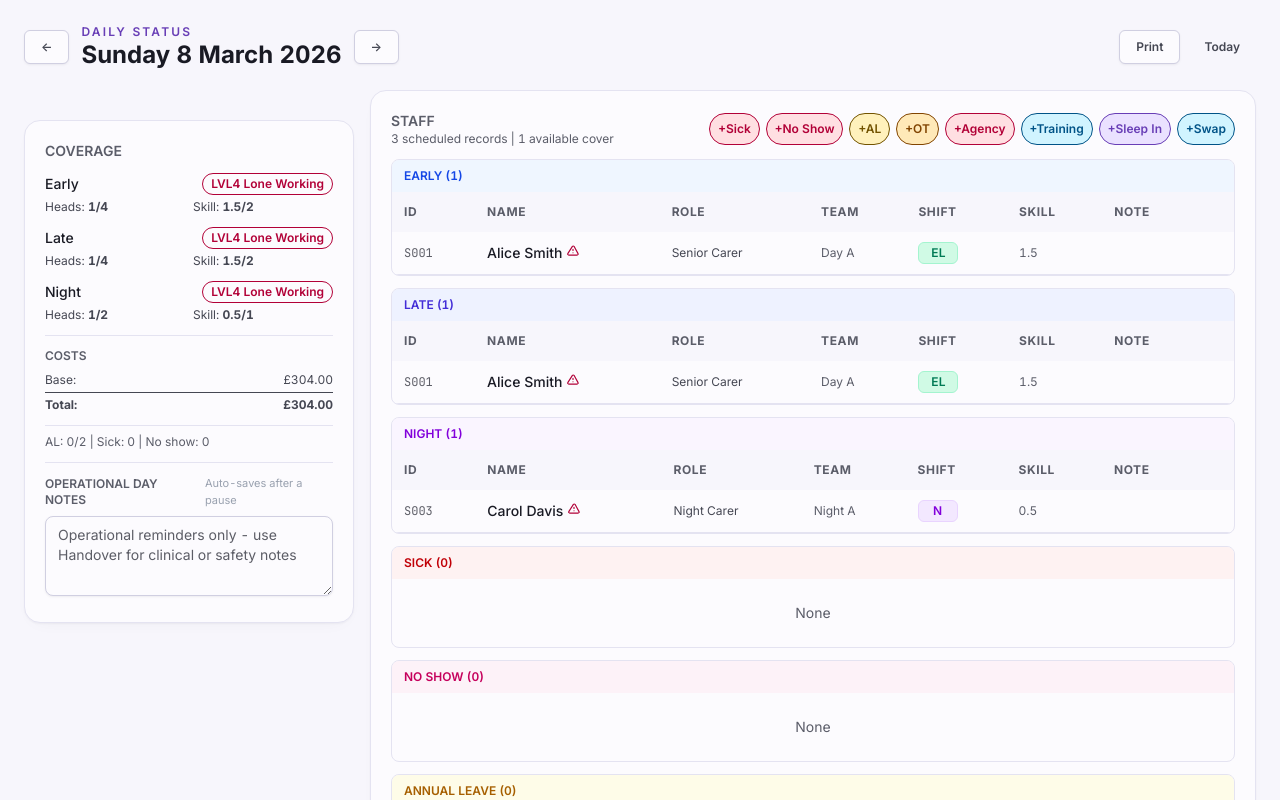
Test: DailyStatus › clicking +Sick opens the Mark Sick modal
Click the button "+Sick": (734, 129) [709,113,760,145]
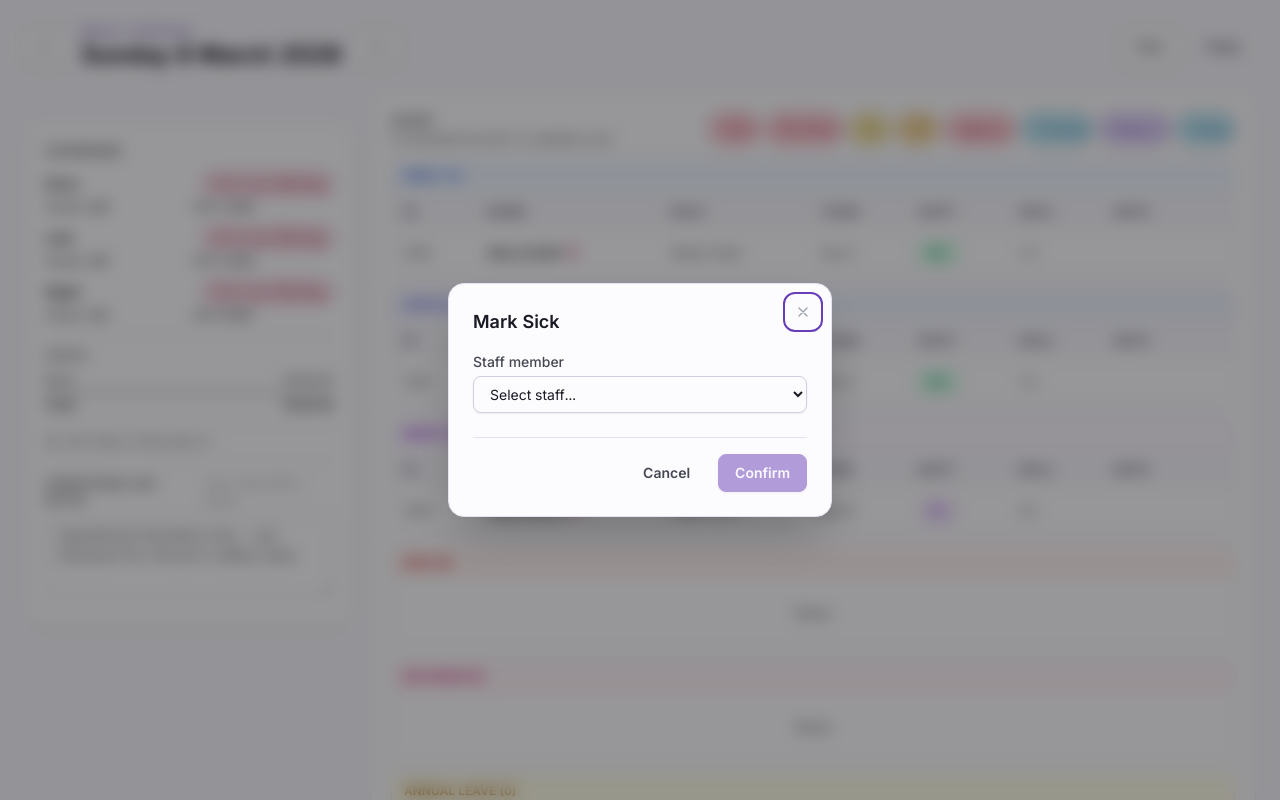
Expected: the dialog is shown
Expected: the heading "Mark Sick" is shown, [473,311,560,332]
